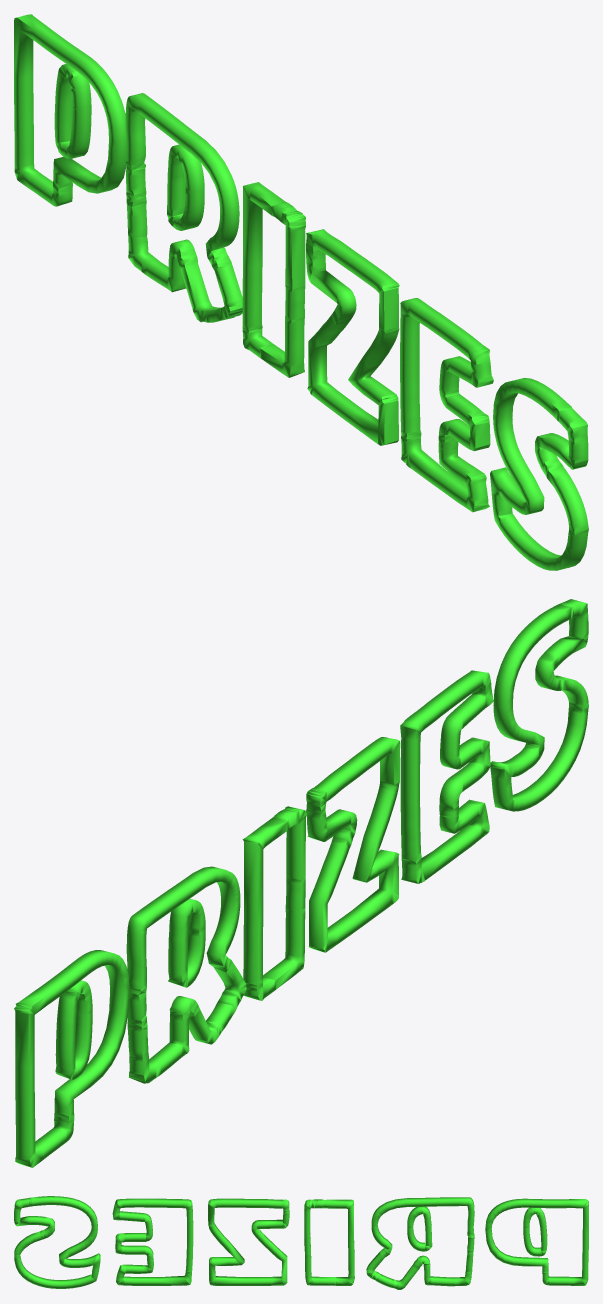
File: MOD_Prizes_sign.mo.fbx
The picture shows the model from 3 angles, top to bottom: view 1: azimuth 30°, elevation 25°; view 2: azimuth 150°, elevation 25°; view 3: azimuth 270°, elevation 25°; orthographic projection. The views are drawn at different scales.
Parts seen in each view (by area): view 1: MOD_Prizes_sign.mo; view 2: MOD_Prizes_sign.mo; view 3: MOD_Prizes_sign.mo.
Boxes of the visible parts, x1,y1,x2,y2 form: MOD_Prizes_sign.mo: (14, 14, 588, 570); MOD_Prizes_sign.mo: (14, 599, 588, 1167); MOD_Prizes_sign.mo: (14, 1196, 588, 1289).
Size of the model in its own units: 5.61 by 51.43 by 296.
